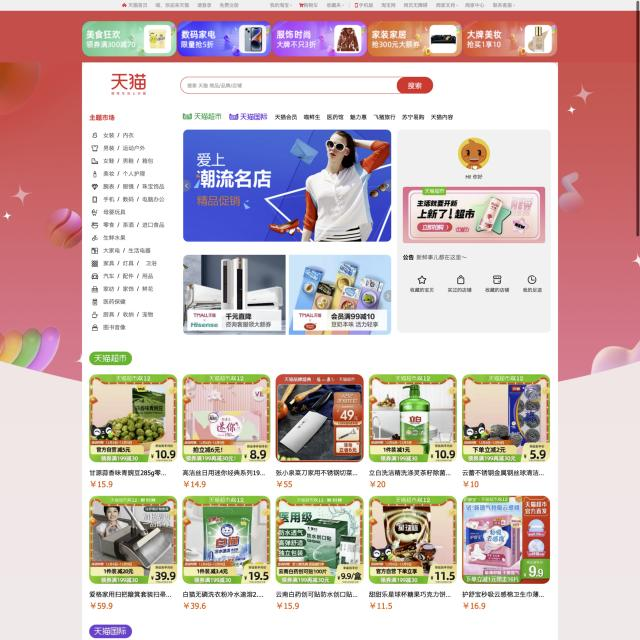input: (180, 75, 434, 94)
logo: (107, 68, 154, 99)
navigation: (90, 129, 168, 333), (118, 0, 517, 10), (180, 110, 458, 122)
